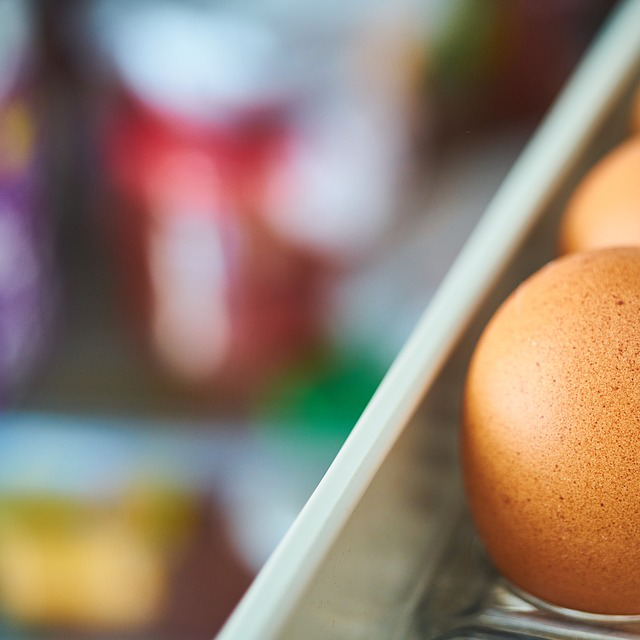egg: (461, 133, 640, 620)
